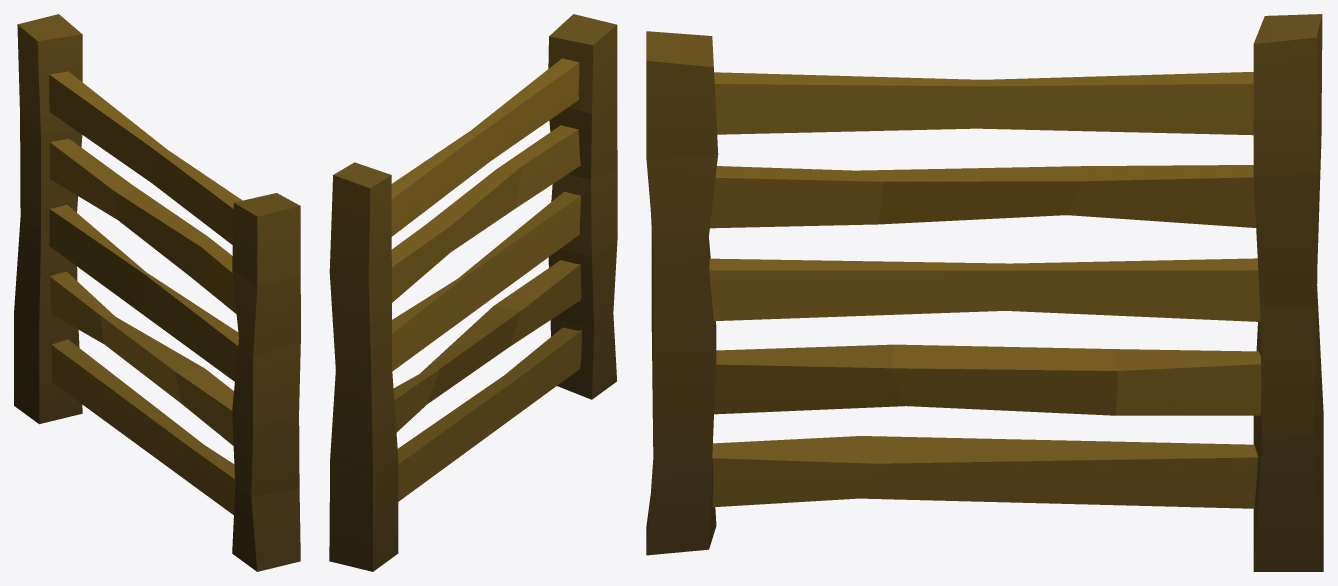
File: SM_Fence1.fbx
3 renders of one model, left to right at view 1: azimuth 30°, elevation 25°; view 2: azimuth 150°, elevation 25°; view 3: azimuth 270°, elevation 25°, orthographic. The views are drawn at different scales.
Visible parts, largest first — view 1: SM_Fence1; view 2: SM_Fence1; view 3: SM_Fence1.
Boxes of the visible parts, box(x1,y1,x2,y2) form: SM_Fence1: box(14, 14, 300, 571); SM_Fence1: box(329, 14, 617, 571); SM_Fence1: box(646, 14, 1323, 571).
Bounding box in the file's own units: 96.39 × 723 × 832.
